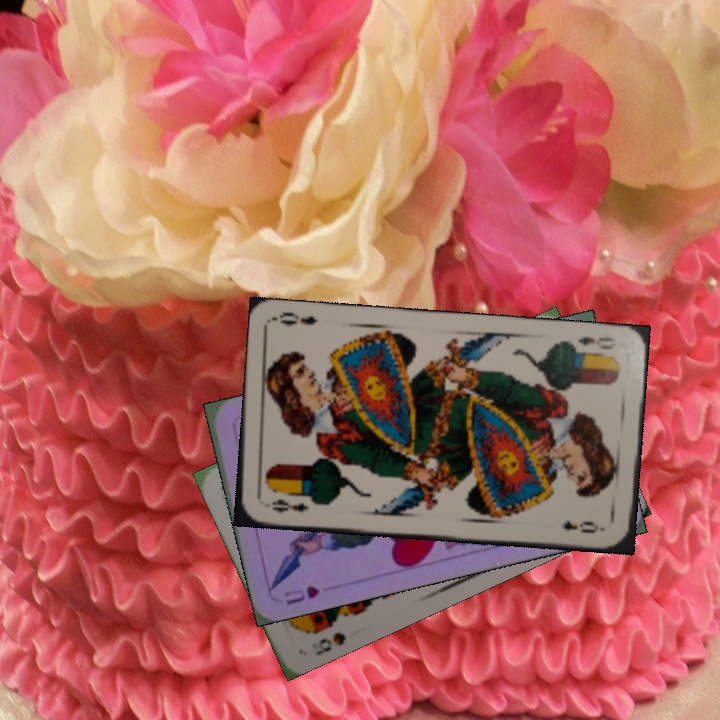EO: (267, 495, 311, 516), (574, 332, 618, 352)
HU: (280, 581, 323, 608)
S8: (311, 628, 348, 658)
